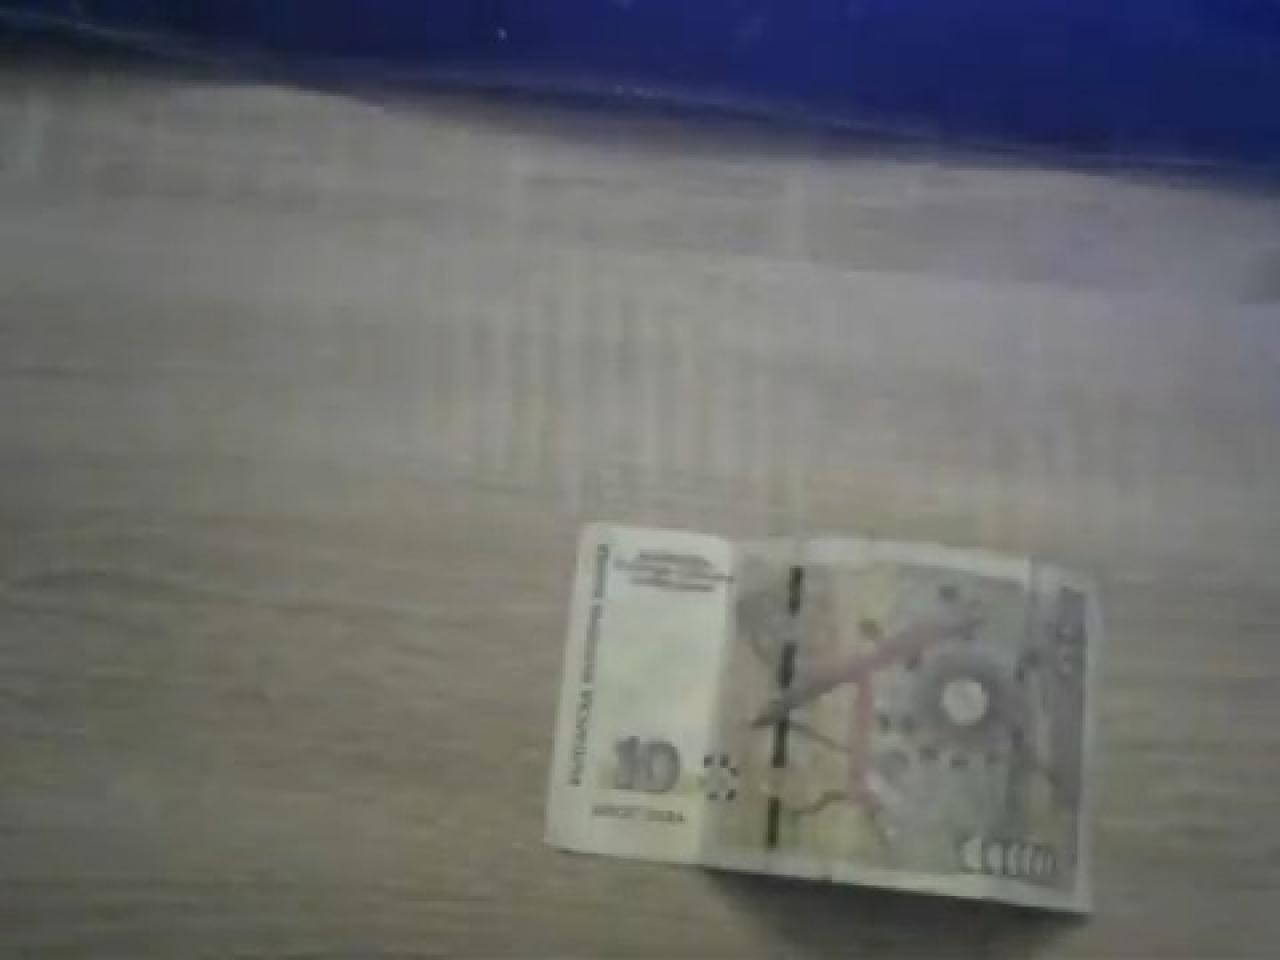10leva: (541, 522, 1104, 923)
